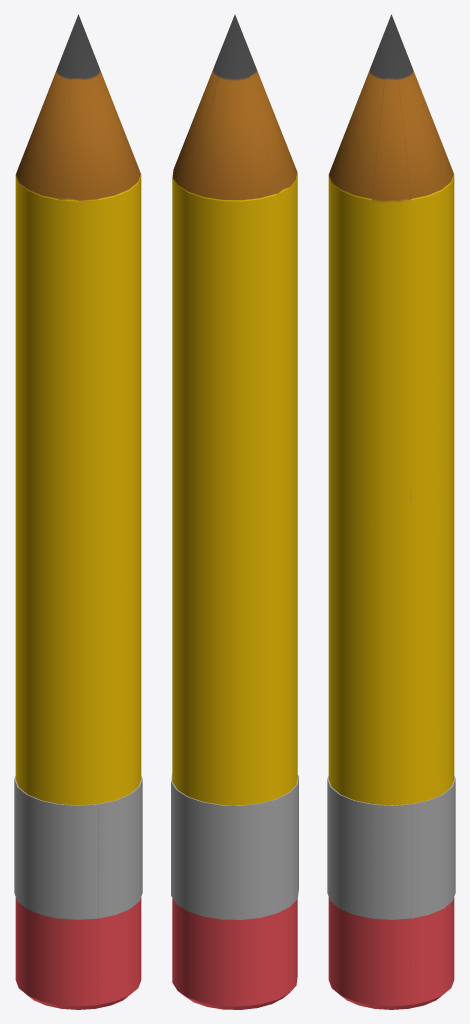
Rendered from Pencil.fbx.
The picture shows the model from 3 angles, left to right: view 1: azimuth 90°, elevation 25°; view 2: azimuth 150°, elevation 25°; view 3: azimuth 270°, elevation 25°; orthographic projection.
Parts seen in each view (by area): view 1: pCylinder1; view 2: pCylinder1; view 3: pCylinder1.
Part boxes in pixels (bbox=[...]): pCylinder1: bbox=[14, 14, 142, 1009]; pCylinder1: bbox=[171, 14, 298, 1009]; pCylinder1: bbox=[327, 14, 455, 1009].
Bounding box in the file's own units: 2.04 × 17.06 × 2.04.
